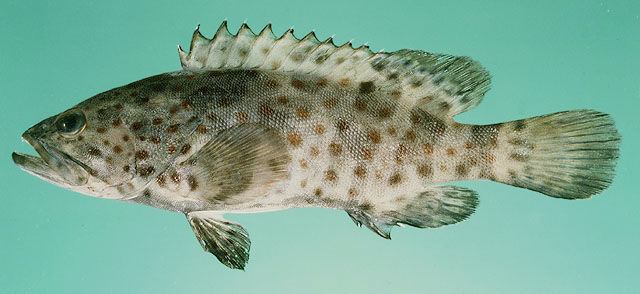fish: (12, 15, 623, 272)
